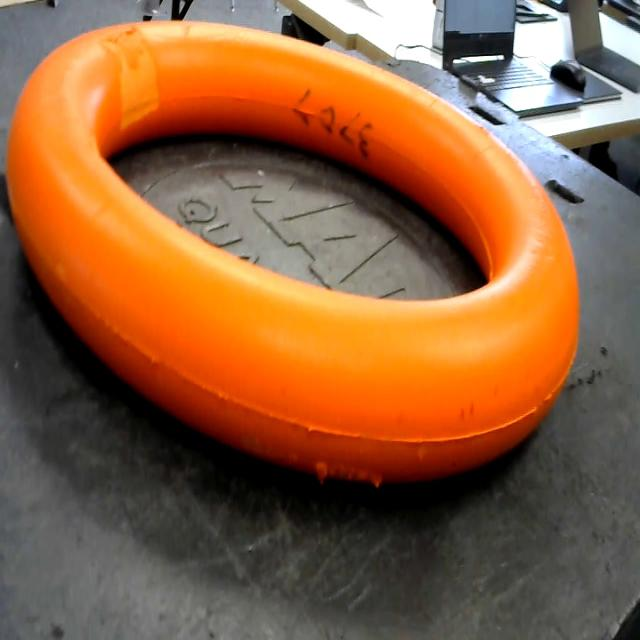note: (2, 11, 587, 498)
